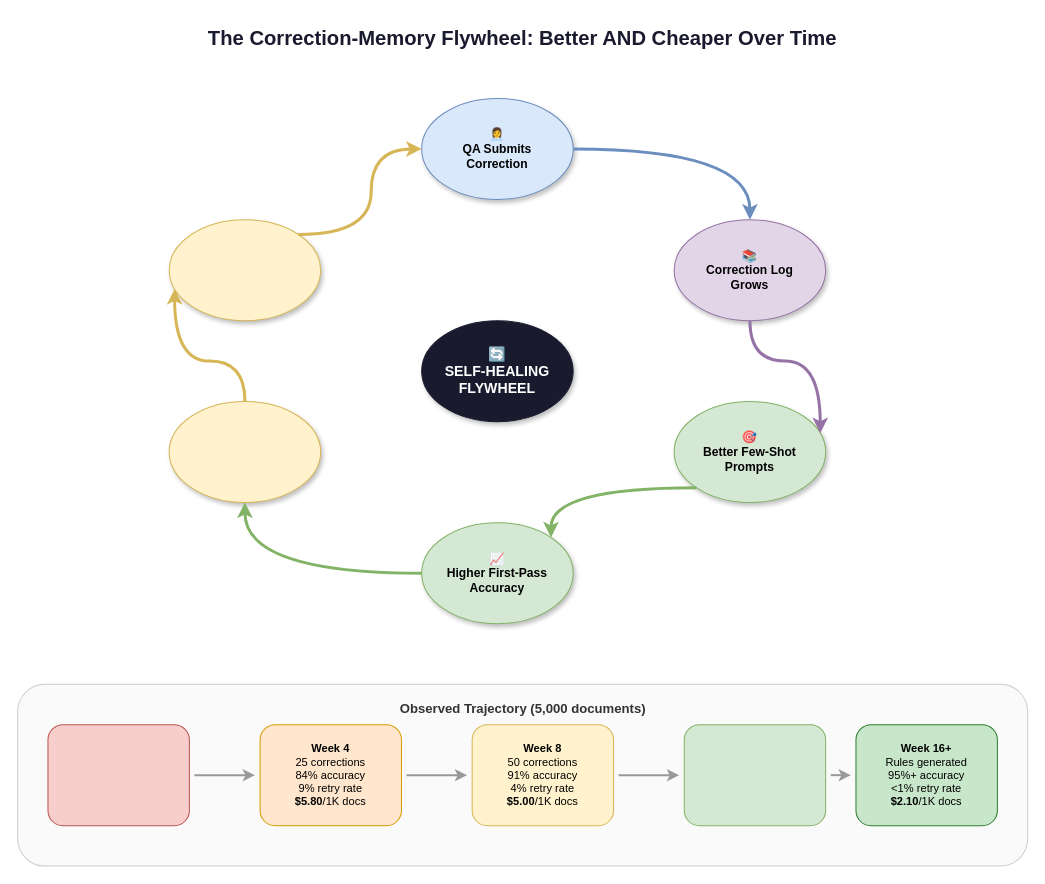
Image size: 1045x884. Some labels were removed from this diagram. Each missing label, with the centre of its shape:
Week 1 0 corrections 72% accuracy 18% retry rate $6.77 /1K docs: (118,775)
Week 12 50 corrections 93% accuracy 2% retry rate $4.73 /1K docs: (754,775)
⬇️ Fewer Self-Heal Retries: (245,453)
💰 Lower Cost Per Document: (245,271)
